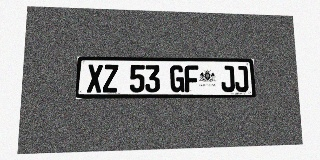3: (145, 65, 160, 92)
5: (130, 65, 145, 92)
F: (184, 65, 199, 92)
G: (170, 65, 184, 92)
J: (234, 66, 249, 92), (221, 66, 235, 92)
X: (87, 64, 103, 93)
Z: (103, 64, 118, 93)
